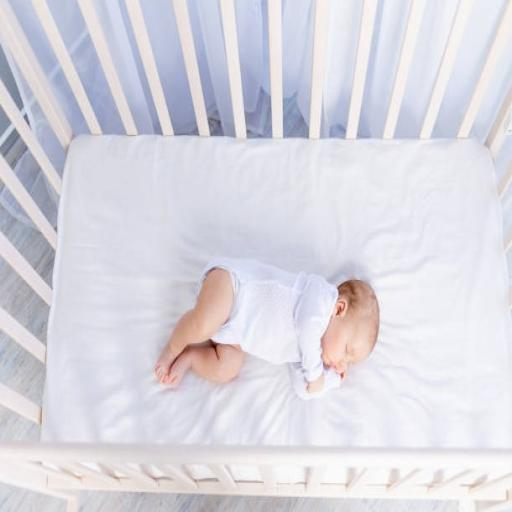baby: (155, 259, 379, 393)
crib: (0, 0, 511, 422)
